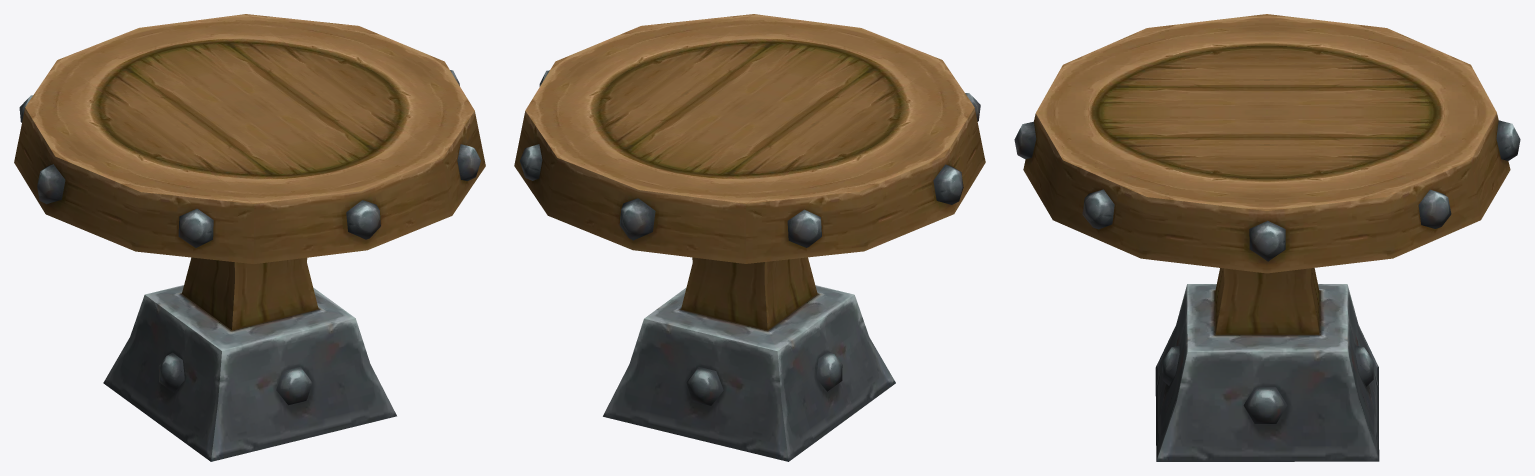
The picture shows the model from 3 angles, left to right: view 1: azimuth 30°, elevation 25°; view 2: azimuth 150°, elevation 25°; view 3: azimuth 270°, elevation 25°; orthographic projection. The views are drawn at different scales.
Size of the model in its own units: 1.4 by 0.9197 by 1.4.
Materials: 1 (1 with a texture image).
